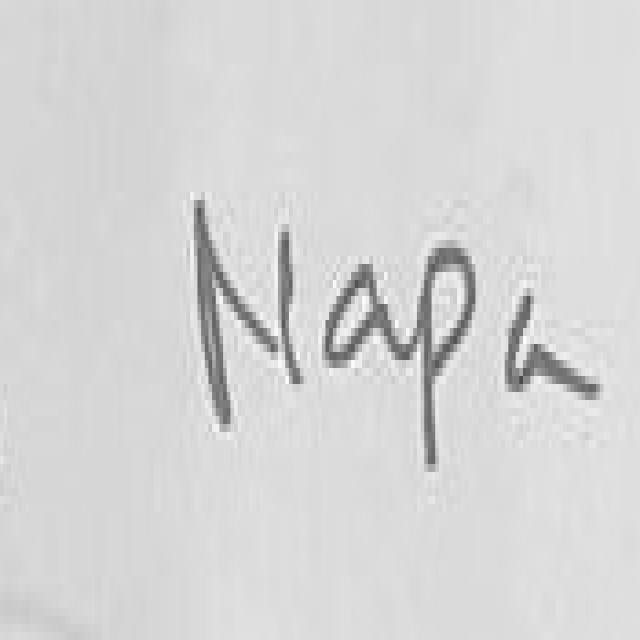N: (194, 200, 282, 432), (282, 232, 304, 384)
a: (508, 296, 603, 400), (325, 264, 406, 368)
p: (424, 248, 479, 472)
